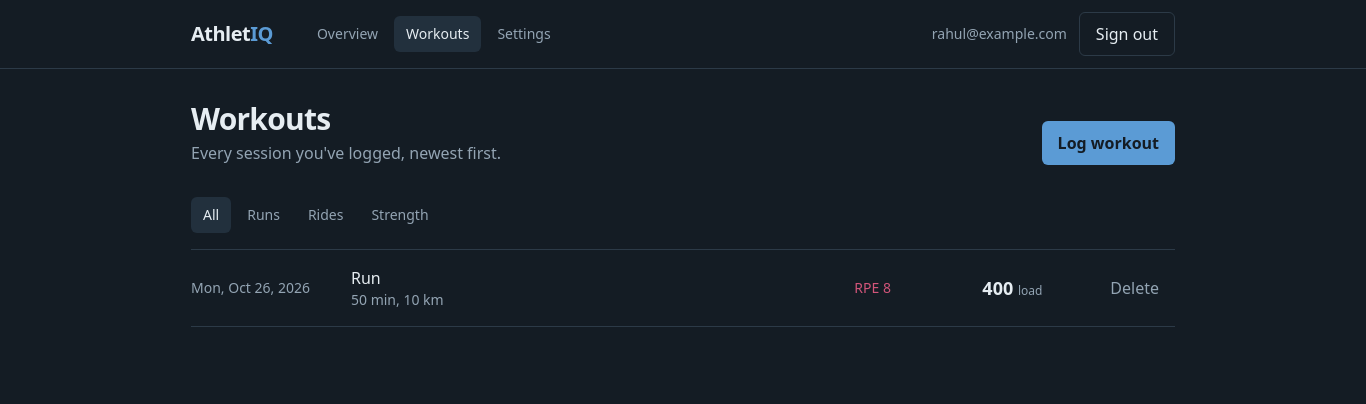
WorkoutsPage › keeps the row and explains when a delete fails
Expected: the list named "Workout history" is shown, [191, 249, 1175, 327]
Click the button with aria-label "Delete run on". click: (1135, 288)
box: [1094, 266, 1175, 310]
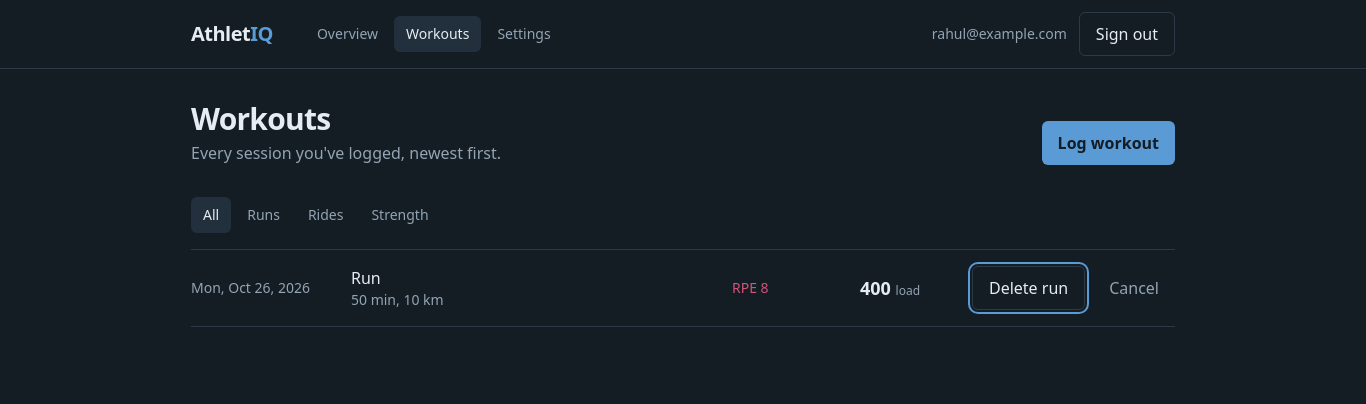
Click the button "Delete run". click: (1029, 288)
box: [972, 266, 1085, 310]
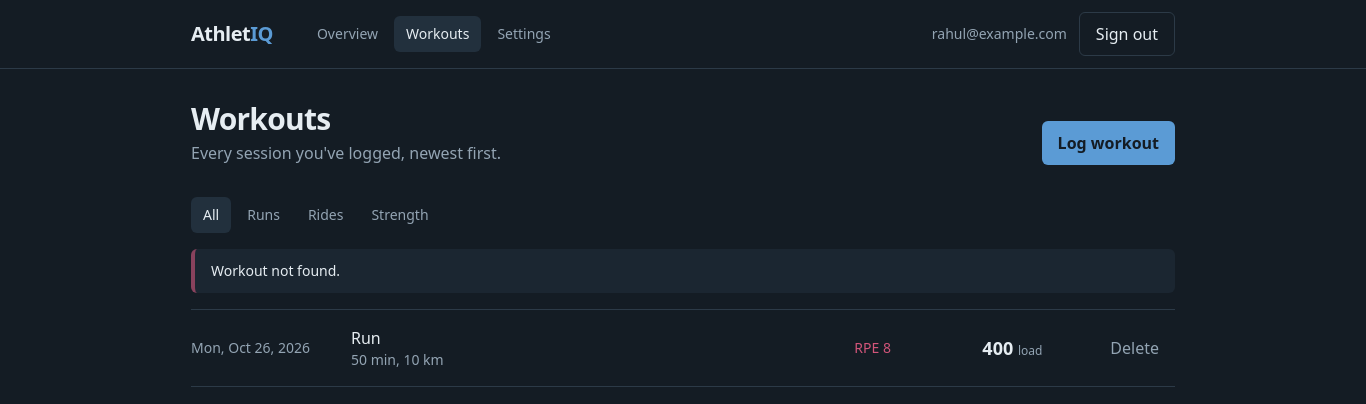
Expected: the number of list items is 1, [191, 310, 1175, 387]
Result: the message reads "Workout not found." at [211, 261, 340, 280]
